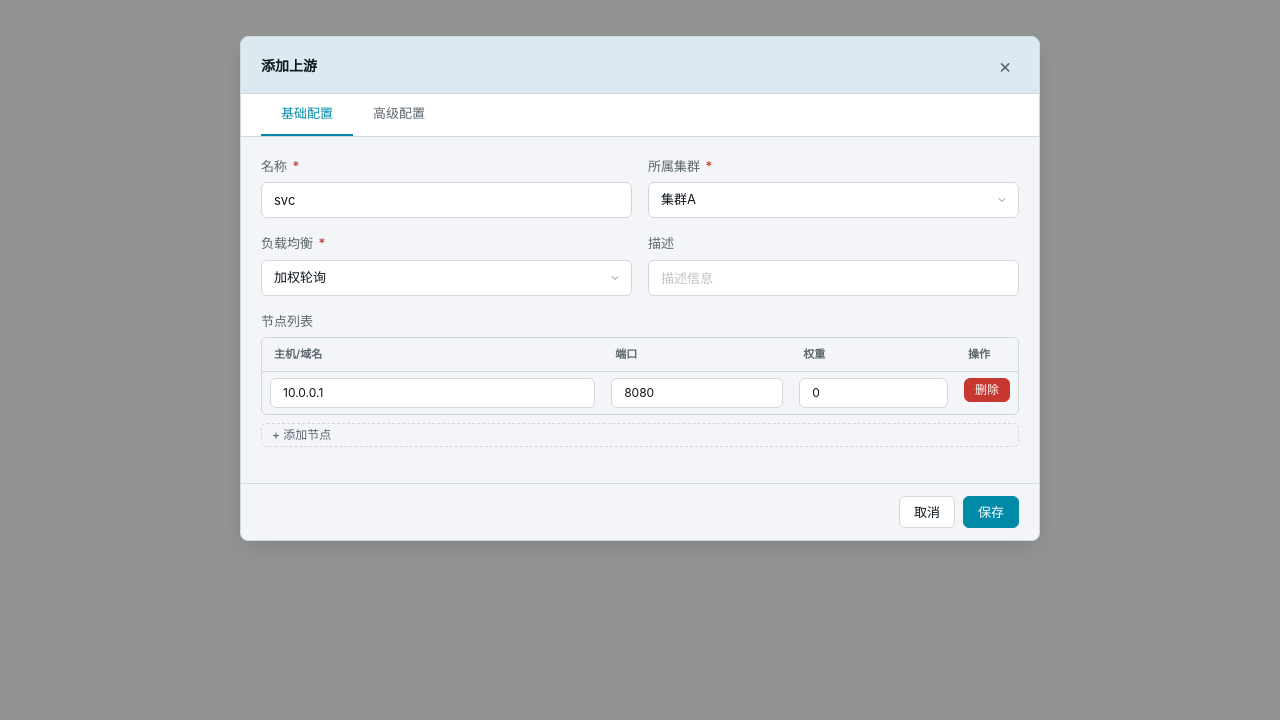
it: UpstreamFormModal.vue hint 与文案（4.5） › 权重错误文案为「权重需为 1-100 的整数」
Click the button "保存" at (991, 512), box 963,496 -> 1019,528
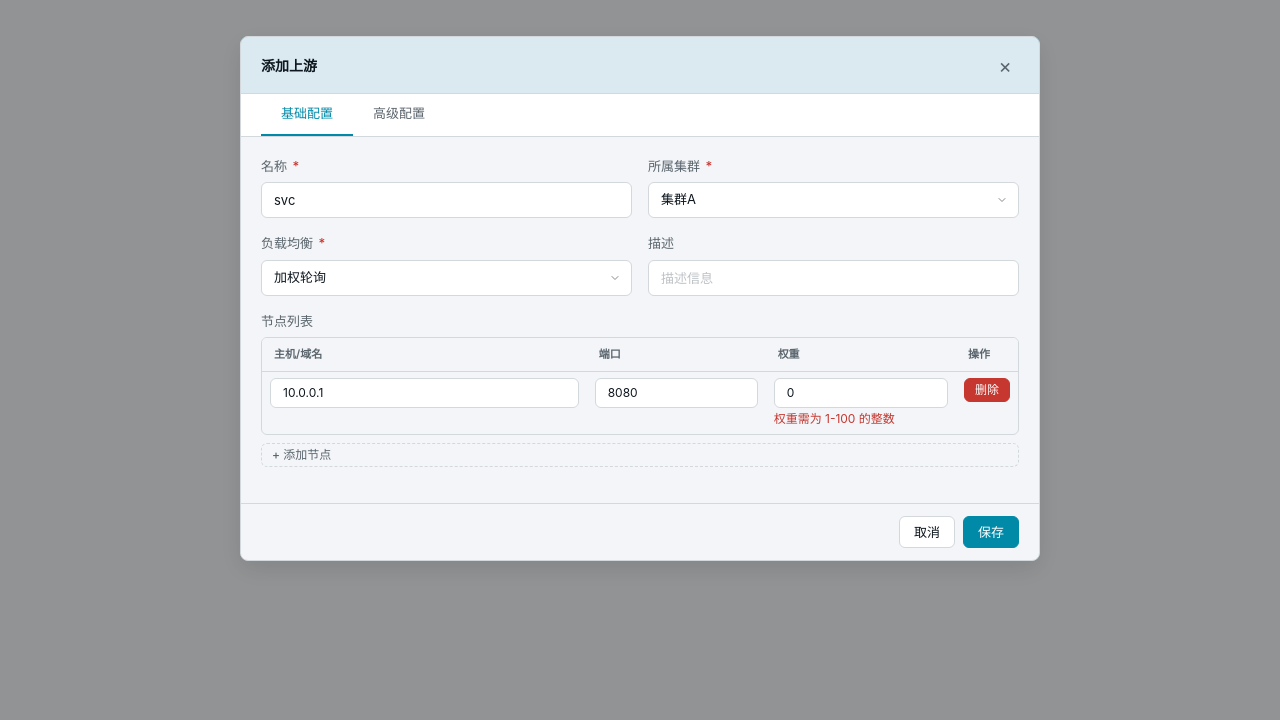
Result: the text "权重需为 1-100 的整数" is shown at 774,410 -> 895,426
